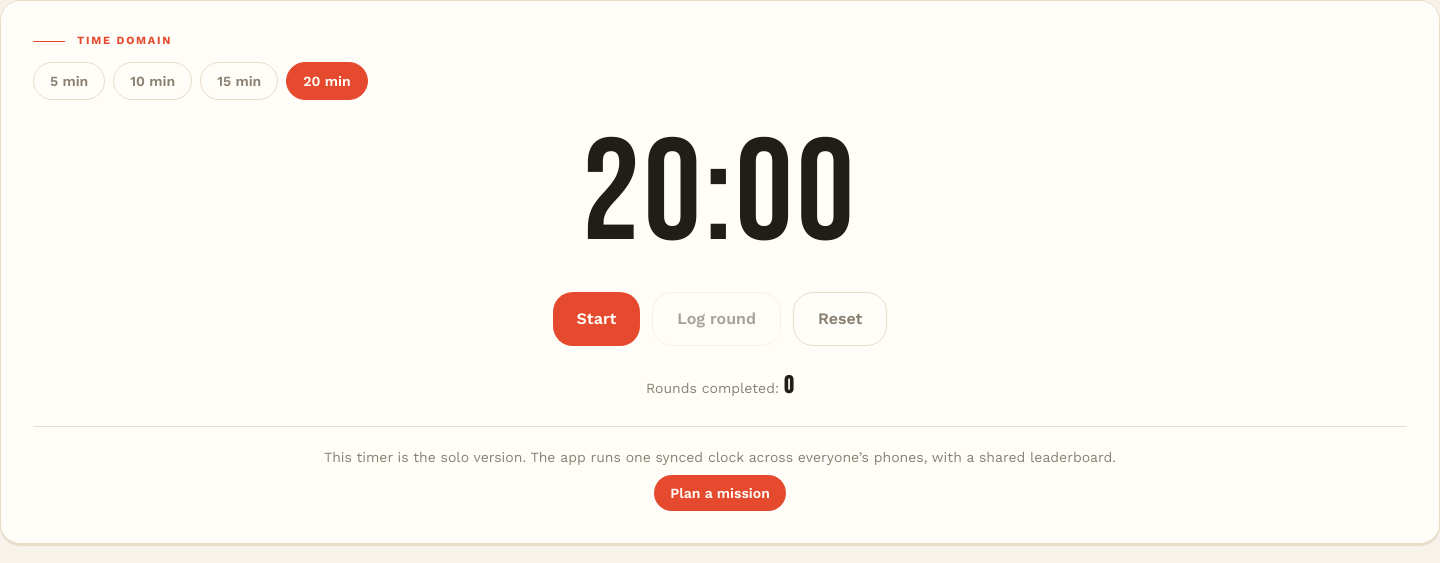
Test: FreeAmrapTimer › reset returns both the clock and the round count
Click the button "Start": (596,318) [552,292,640,346]
Wait 30000 ms
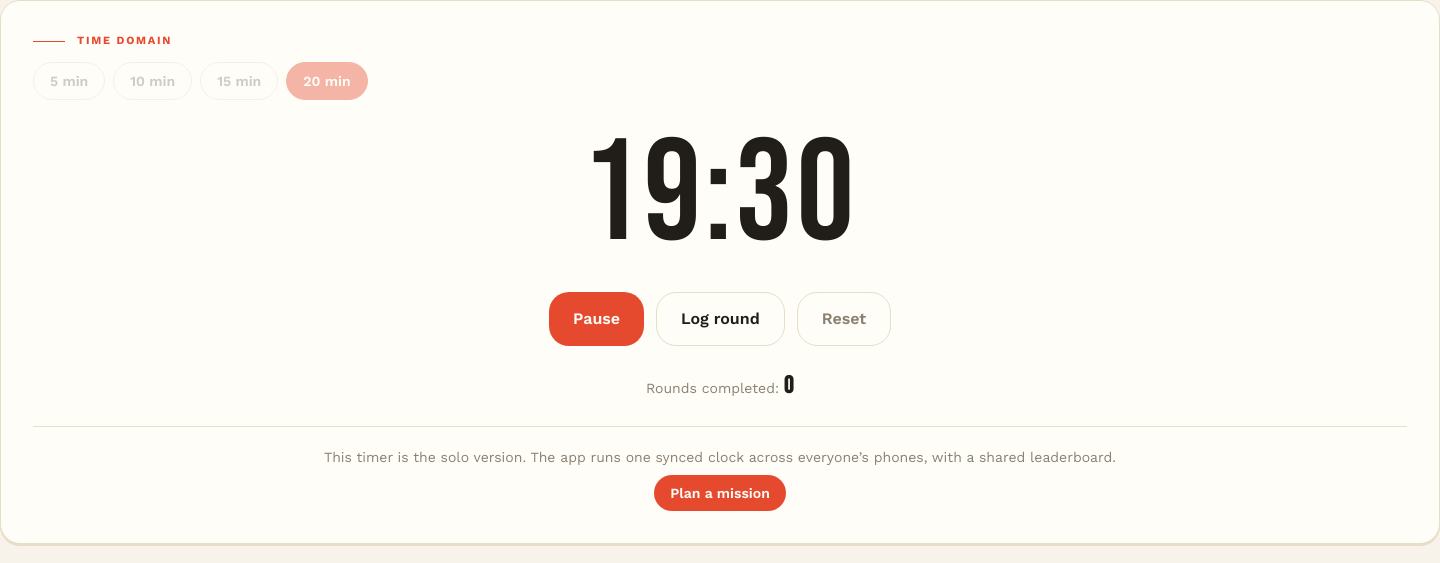
Click the button "Log round": (720,318) [656,292,785,346]
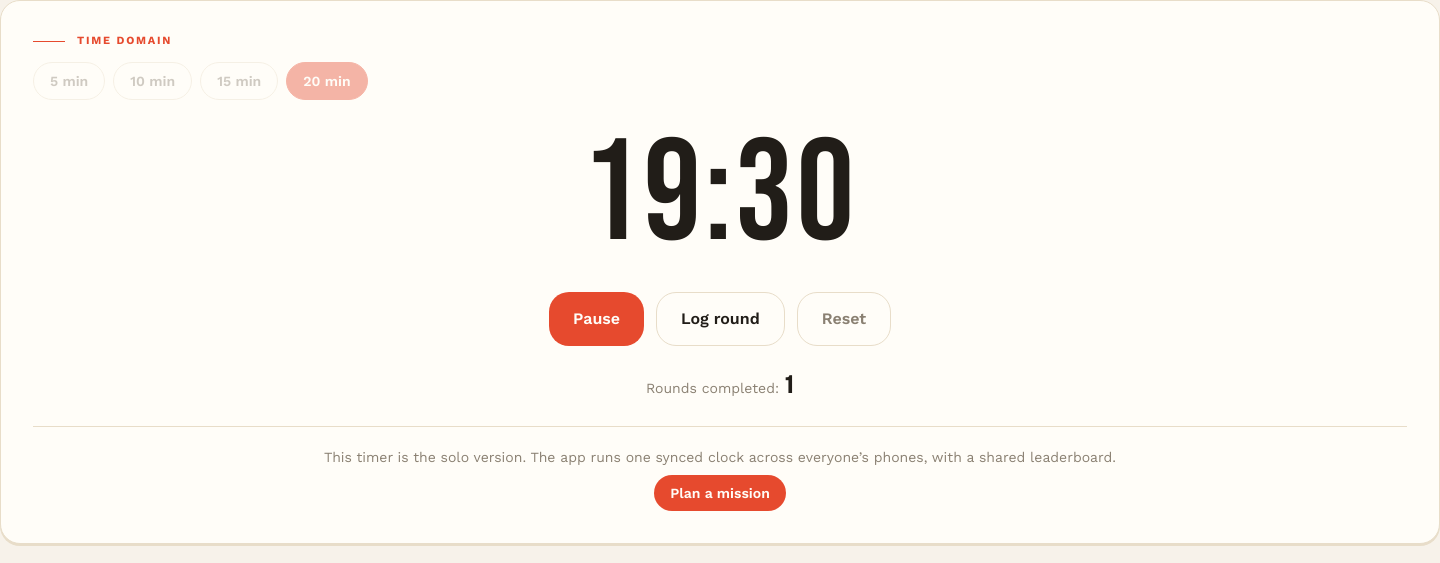
Click the button "Reset": (844,318) [797,292,891,346]
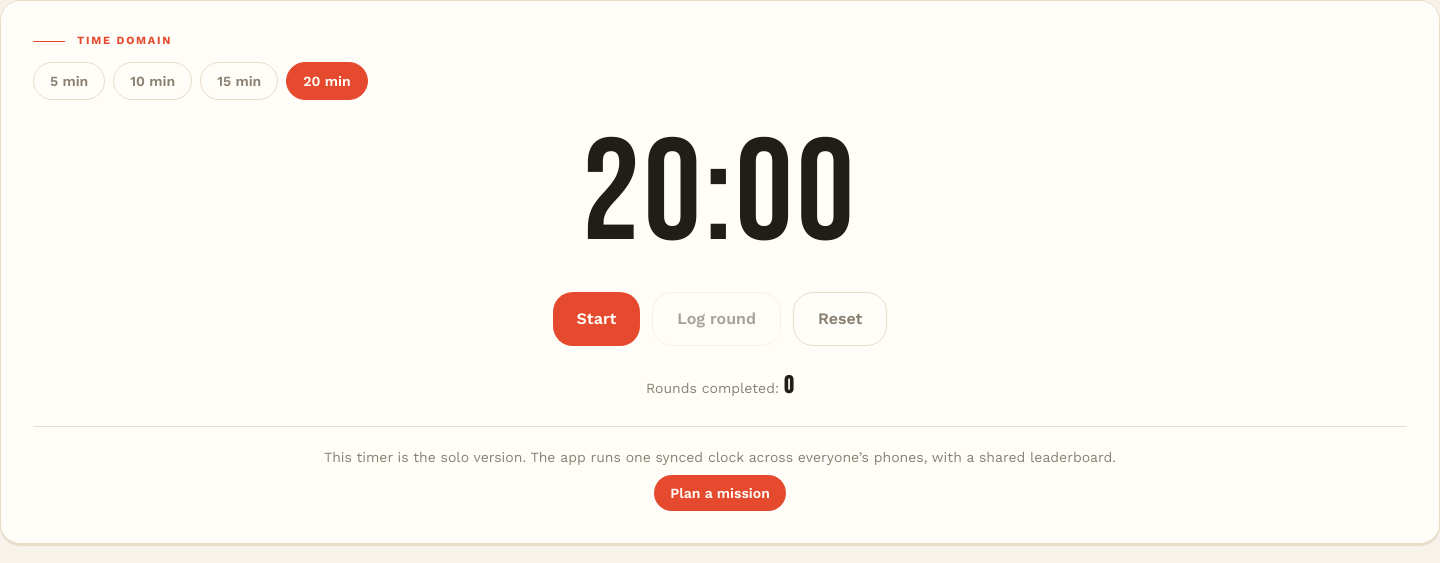
Now the text "0" is shown, box [784,370,794,400]
